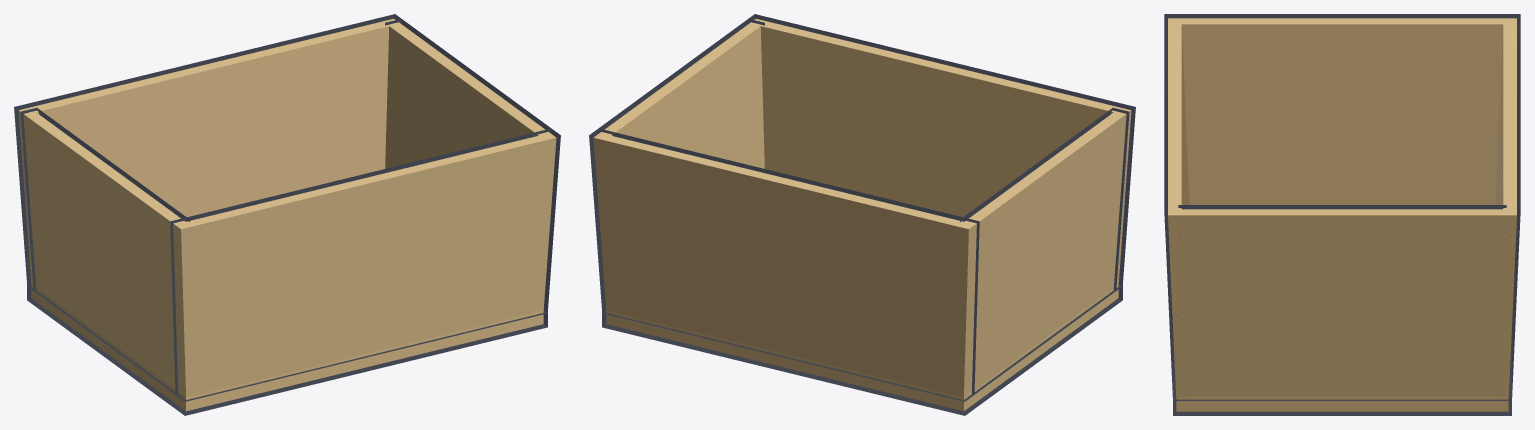
Rendered from sort_bin.glb.
3 renders of one model, left to right at view 1: azimuth 30°, elevation 25°; view 2: azimuth 150°, elevation 25°; view 3: azimuth 270°, elevation 25°, orthographic. The views are drawn at different scales.
Visible parts, largest first — view 1: bin, ink_outline; view 2: bin, ink_outline; view 3: bin, ink_outline.
Part boxes in pixels (<box>): bin: <box>18,18,556,411</box>; ink_outline: <box>14,14,560,415</box>; bin: <box>593,18,1131,411</box>; ink_outline: <box>589,14,1135,415</box>; bin: <box>1168,18,1516,411</box>; ink_outline: <box>1164,14,1520,415</box>.
Size of the model in its own units: 0.0853 by 0.0412 by 0.0642.
